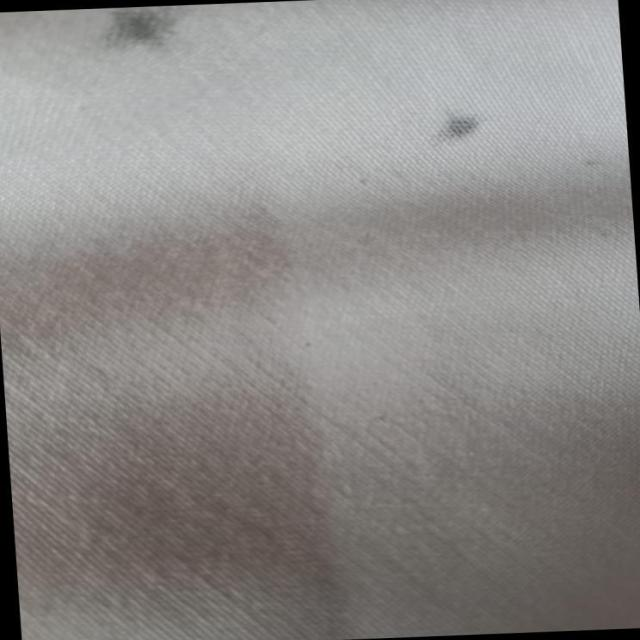stain: (87, 5, 209, 72), (398, 100, 516, 154)
